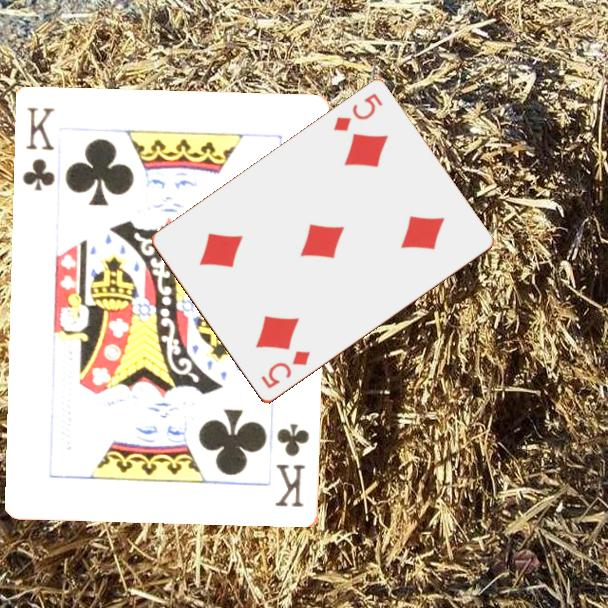c13: (272, 421, 312, 510), (19, 104, 58, 194)
d05: (257, 347, 313, 392), (330, 90, 386, 135)
